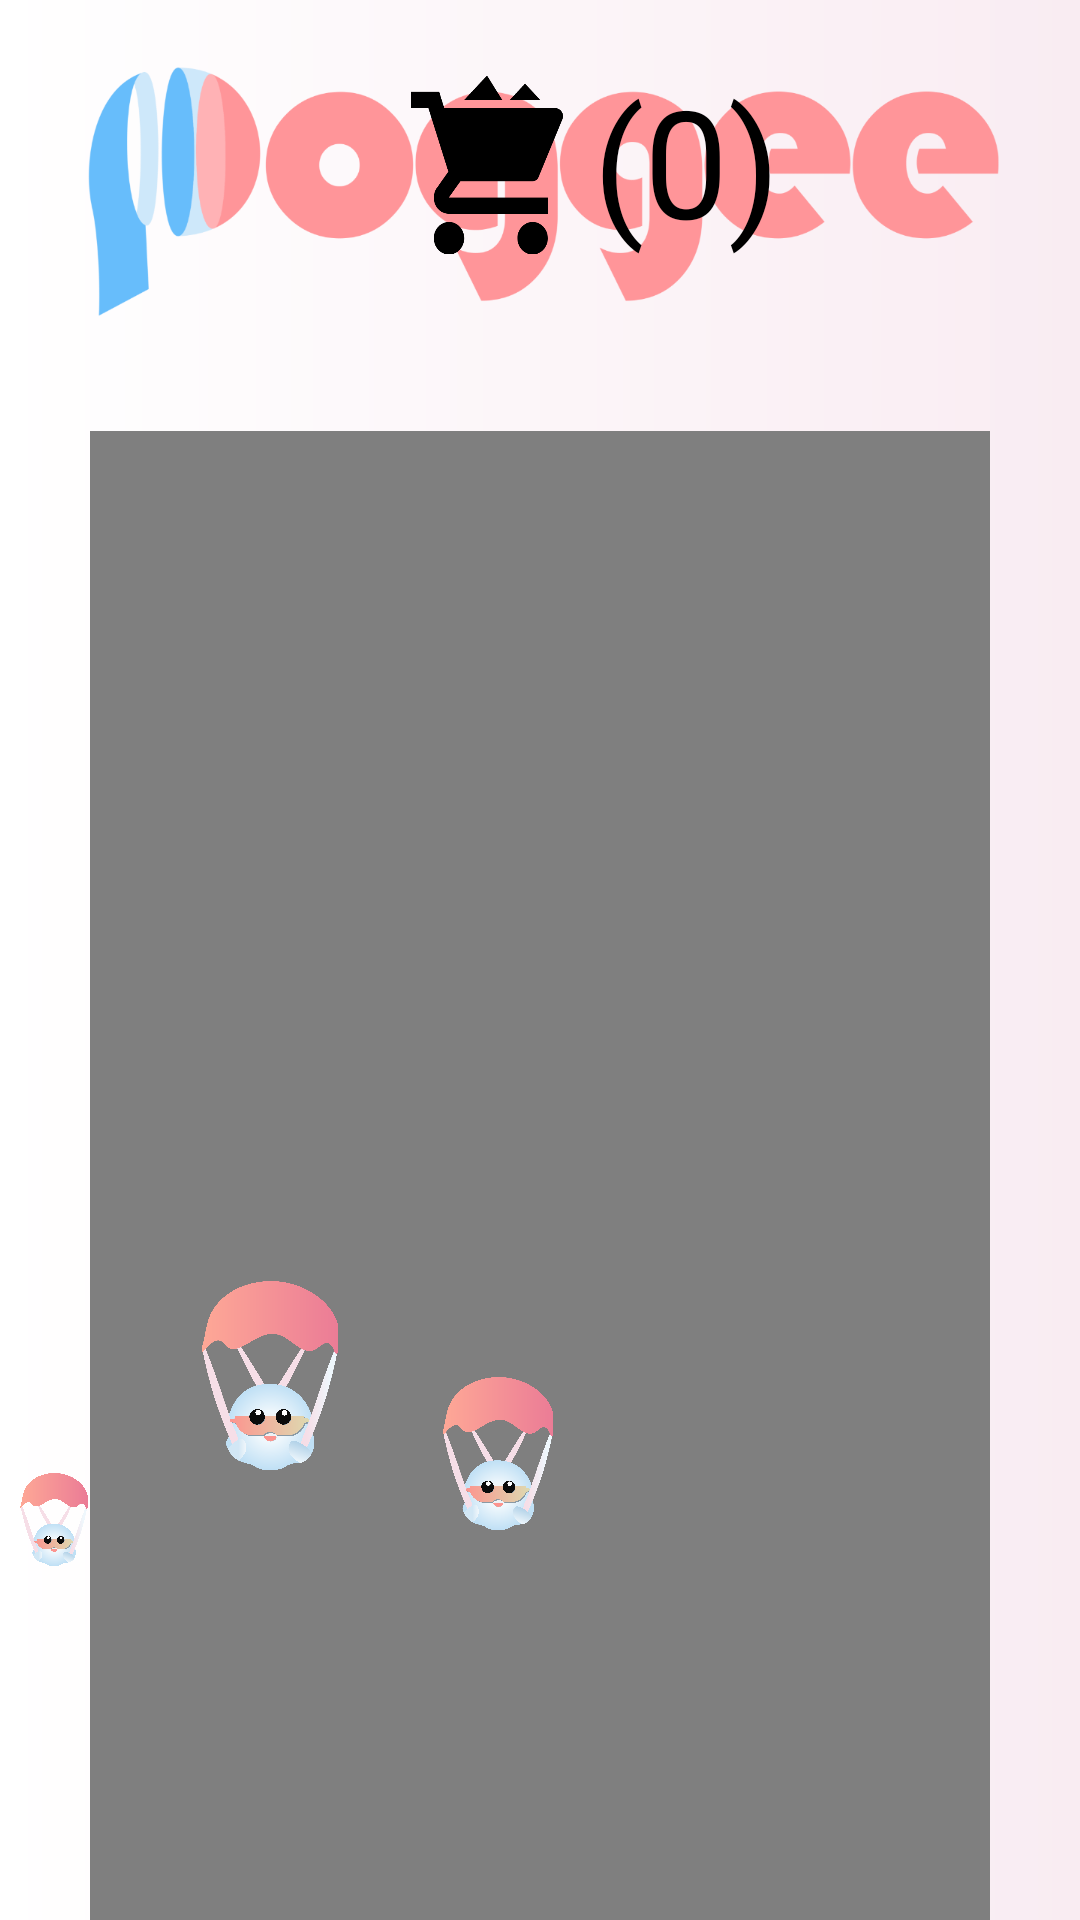

Locate icon controls on the screen. Image size 1080 × 1920, boxes as bbox=[x1, y1, x2, y2].
shopping cart: bbox=[411, 76, 563, 255]
